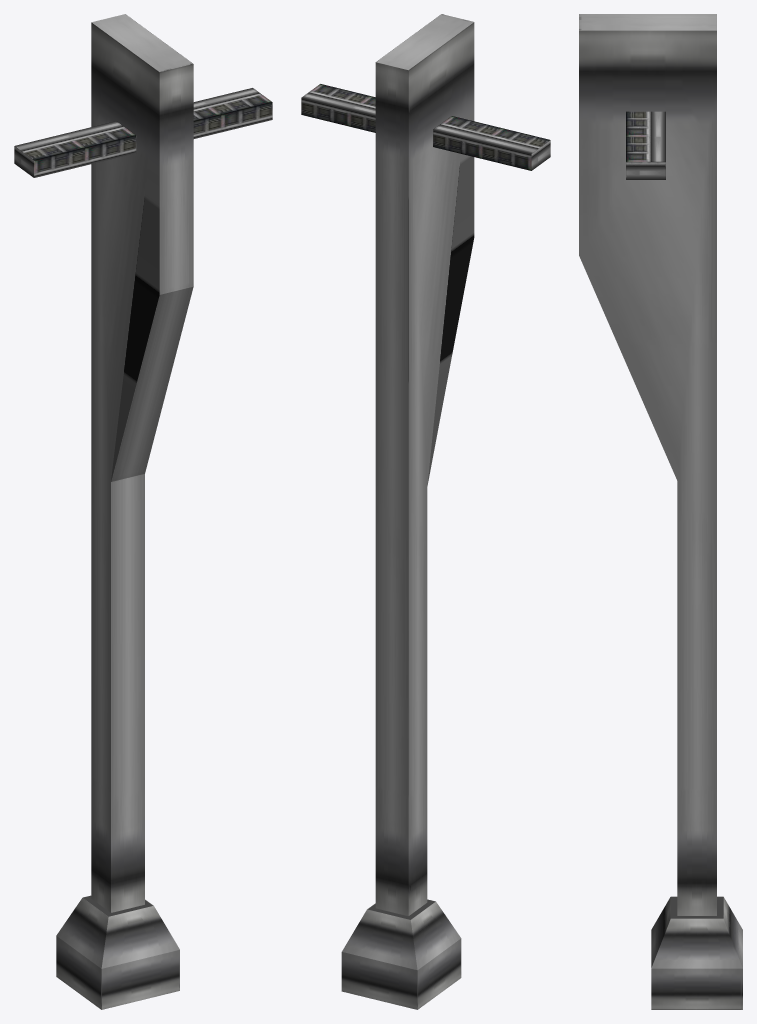
File: street_lamp.fbx
3 renders of one model, left to right at view 1: azimuth 30°, elevation 25°; view 2: azimuth 150°, elevation 25°; view 3: azimuth 270°, elevation 25°, orthographic. The views are drawn at different scales.
Visible parts, largest first — view 1: Light_main_part, base_lamp, Cube.001, Cube; view 2: Light_main_part, base_lamp, Cube.001, Cube; view 3: Light_main_part, base_lamp, Cube.
Part boxes in pixels (bbox=[...]): Light_main_part: bbox=[91, 14, 193, 912]; base_lamp: bbox=[56, 895, 179, 1009]; Cube.001: bbox=[14, 121, 136, 177]; Cube: bbox=[193, 88, 272, 138]; Light_main_part: bbox=[375, 14, 474, 916]; base_lamp: bbox=[341, 899, 461, 1009]; Cube.001: bbox=[433, 116, 550, 170]; Cube: bbox=[301, 84, 375, 132]; Light_main_part: bbox=[579, 14, 716, 915]; base_lamp: bbox=[651, 896, 742, 1009]; Cube: bbox=[626, 111, 665, 179].
Size of the model in its own units: 280 by 1076 by 165.
4 materials, 4 textured.
